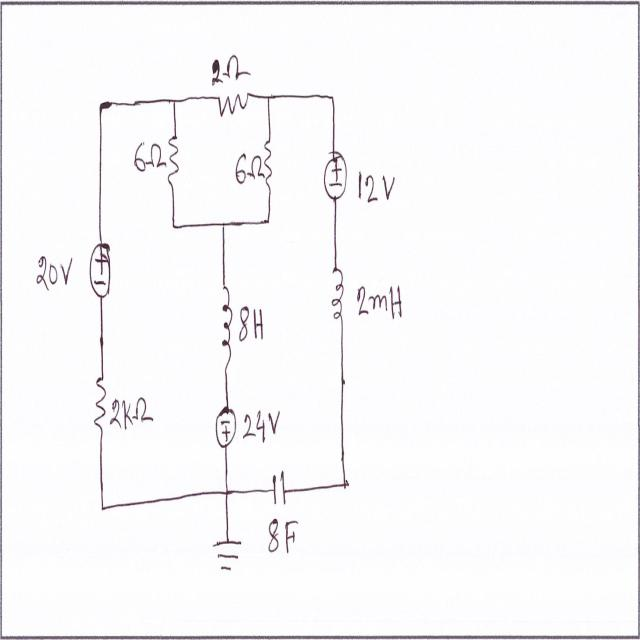capacitor: (272, 466, 288, 511)
ground: (213, 533, 243, 578)
inductor: (216, 282, 234, 367), (330, 258, 346, 330)
resistor: (90, 373, 110, 446), (217, 88, 251, 126), (166, 130, 182, 184), (262, 129, 275, 192)
voltage_source: (89, 231, 112, 300), (323, 146, 348, 204), (214, 406, 240, 454)
